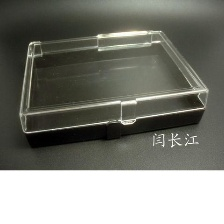plastic_box: (12, 22, 214, 141)
